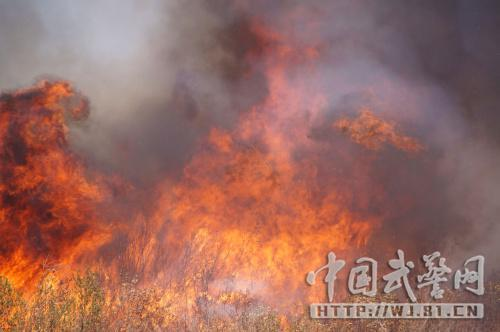fire: (145, 99, 425, 313), (1, 79, 119, 291), (257, 13, 326, 128)
